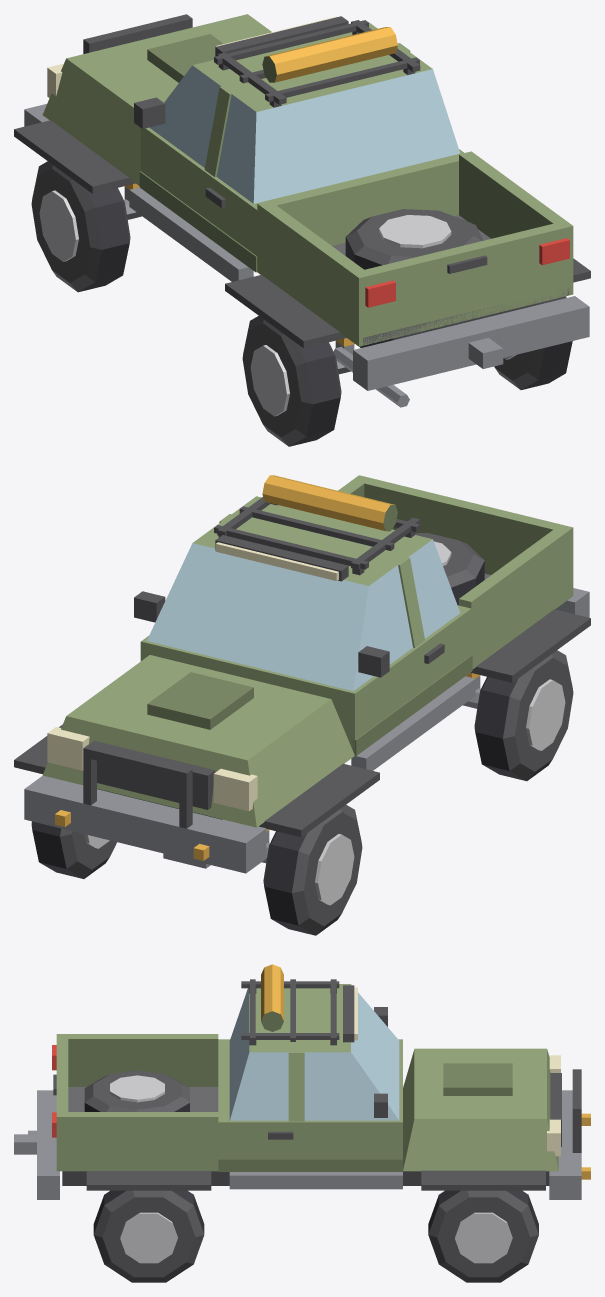
Rendered from Truckfbx.fbx.
The picture shows the model from 3 angles, top to bottom: view 1: azimuth 30°, elevation 25°; view 2: azimuth 150°, elevation 25°; view 3: azimuth 270°, elevation 25°; orthographic projection. The views are drawn at different scales.
Parts seen in each view (by area): view 1: greenhouse, cab_lower, tailgate, hood, bumper_rear, bed_wall_L, tire_rear_L, tire_front_L, bed_wall_R, roof_roll, flare_front_L, flare_rear_L (+20 smaller); view 2: greenhouse, hood, bumper_front, cab_lower, bed_wall_L, tailgate, tire_front_L, tire_rear_L, hood_scoop, roof_roll, flare_front_L, flare_rear_L (+22 smaller); view 3: greenhouse, hood, bed_wall_R, cab_lower, bed_wall_L, tire_rear_R, tire_front_R, slider_R, spare_tire, flare_front_R, flare_rear_R, rocker_R (+20 smaller).
Part boxes in pixels (x1,y1,x2,y2): greenhouse: [149, 22, 460, 203]; cab_lower: [140, 127, 463, 255]; tailgate: [364, 223, 560, 343]; hood: [42, 14, 271, 185]; bumper_rear: [353, 296, 589, 390]; bed_wall_L: [257, 200, 371, 346]; tire_rear_L: [242, 316, 341, 446]; tire_front_L: [31, 161, 130, 292]; bed_wall_R: [459, 151, 573, 297]; roof_roll: [262, 27, 397, 82]; flare_front_L: [14, 120, 135, 193]; flare_rear_L: [225, 275, 346, 348]; greenhouse: [147, 496, 460, 691]; hood: [42, 655, 354, 827]; bumper_front: [24, 775, 266, 873]; cab_lower: [140, 605, 471, 752]; bed_wall_L: [459, 524, 573, 669]; tailgate: [364, 478, 560, 574]; tire_front_L: [263, 804, 362, 935]; tire_rear_L: [474, 650, 573, 781]; hood_scoop: [147, 672, 253, 729]; roof_roll: [262, 475, 397, 531]; flare_front_L: [259, 763, 379, 837]; flare_rear_L: [471, 609, 590, 682]; greenhouse: [229, 984, 399, 1120]; hood: [403, 1048, 558, 1171]; bed_wall_R: [56, 1112, 218, 1171]; cab_lower: [218, 1039, 402, 1158]; bed_wall_L: [56, 1034, 218, 1086]; tire_rear_R: [93, 1190, 204, 1282]; tire_front_R: [428, 1190, 538, 1282]; slider_R: [229, 1172, 402, 1189]; spare_tire: [84, 1070, 189, 1111]; flare_front_R: [421, 1170, 545, 1190]; flare_rear_R: [86, 1171, 211, 1190]; rocker_R: [218, 1159, 402, 1171].
Bounding box in the file's own units: 228 × 234 × 500.
